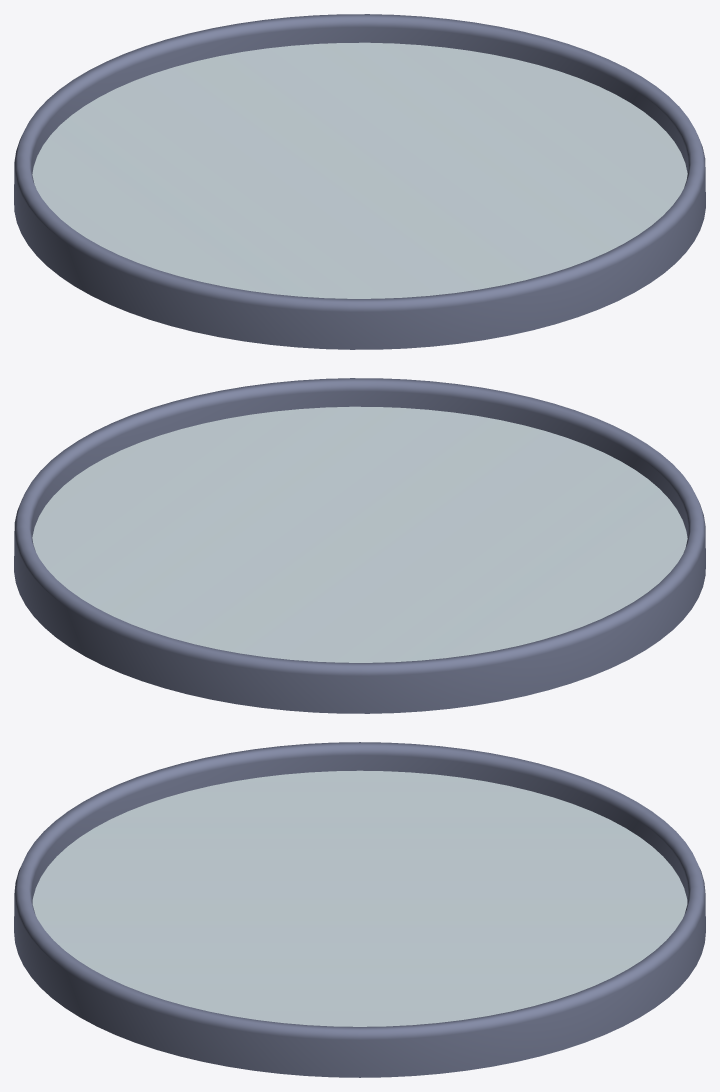
Rendered from Base_Picture.fbx.
The picture shows the model from 3 angles, top to bottom: view 1: azimuth 30°, elevation 25°; view 2: azimuth 150°, elevation 25°; view 3: azimuth 270°, elevation 25°; orthographic projection.
Visible parts, largest first — view 1: Base_Picture, Base_Picture1; view 2: Base_Picture, Base_Picture1; view 3: Base_Picture, Base_Picture1.
Part boxes in pixels (x1=…): Base_Picture: x1=32, y1=42, x2=687, y2=298; Base_Picture1: x1=14, y1=14, x2=705, y2=349; Base_Picture: x1=32, y1=406, x2=687, y2=662; Base_Picture1: x1=14, y1=378, x2=705, y2=713; Base_Picture: x1=32, y1=770, x2=687, y2=1026; Base_Picture1: x1=14, y1=742, x2=705, y2=1077.
Bounding box in the file's own units: 430 × 30.74 × 430.
